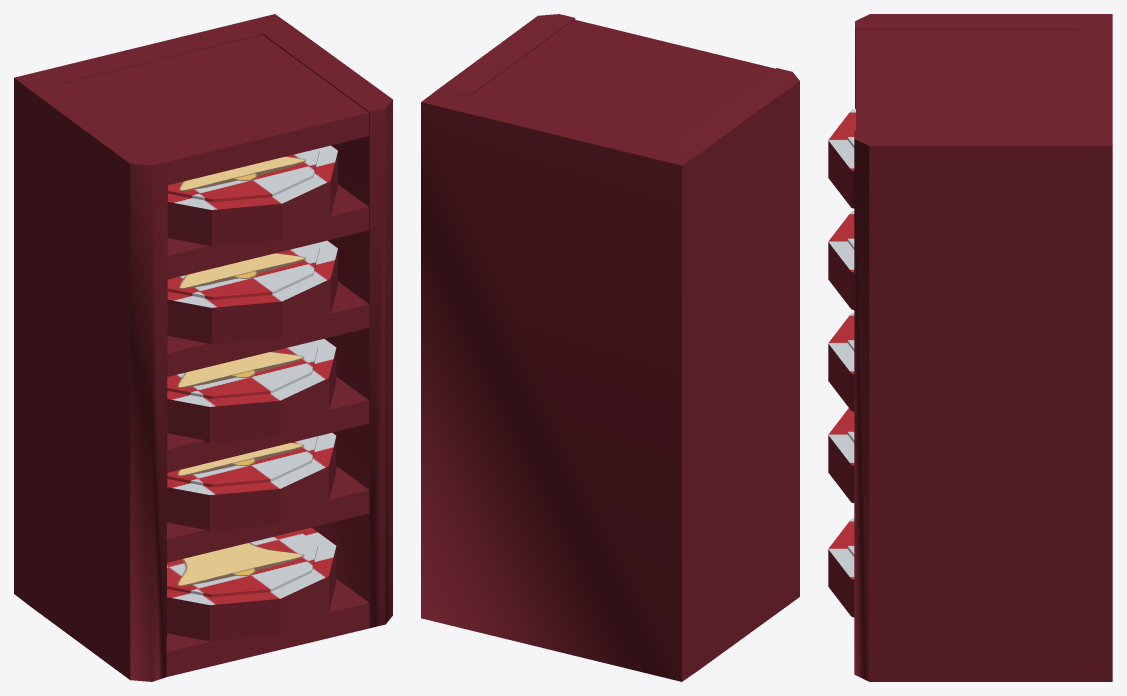
The model's file is t_pagerholder_small.fbx.
3 renders of one model, left to right at view 1: azimuth 30°, elevation 25°; view 2: azimuth 150°, elevation 25°; view 3: azimuth 270°, elevation 25°, orthographic. The views are drawn at different scales.
Parts seen in each view (by area): view 1: t_pagerholder, t_pager.004, t_pager, t_pager.001, t_pager.002, t_pager.003; view 2: t_pagerholder; view 3: t_pagerholder, t_pager.002, t_pager, t_pager.004, t_pager.001, t_pager.003.
Part boxes in pixels (x1=…): t_pagerholder: x1=14, y1=14, x2=392, y2=681; t_pager.004: x1=167, y1=527, x2=336, y2=641; t_pager: x1=167, y1=339, x2=336, y2=442; t_pager.001: x1=167, y1=240, x2=337, y2=343; t_pager.002: x1=167, y1=145, x2=337, y2=246; t_pager.003: x1=167, y1=433, x2=336, y2=531; t_pagerholder: x1=421, y1=14, x2=799, y2=681; t_pagerholder: x1=854, y1=14, x2=1112, y2=681; t_pager.002: x1=828, y1=108, x2=855, y2=208; t_pager: x1=828, y1=312, x2=854, y2=411; t_pager.004: x1=828, y1=518, x2=854, y2=617; t_pager.001: x1=828, y1=211, x2=854, y2=309; t_pager.003: x1=828, y1=408, x2=854, y2=502.
Bounding box in the file's own units: 36.13 × 68.03 × 32.7.
